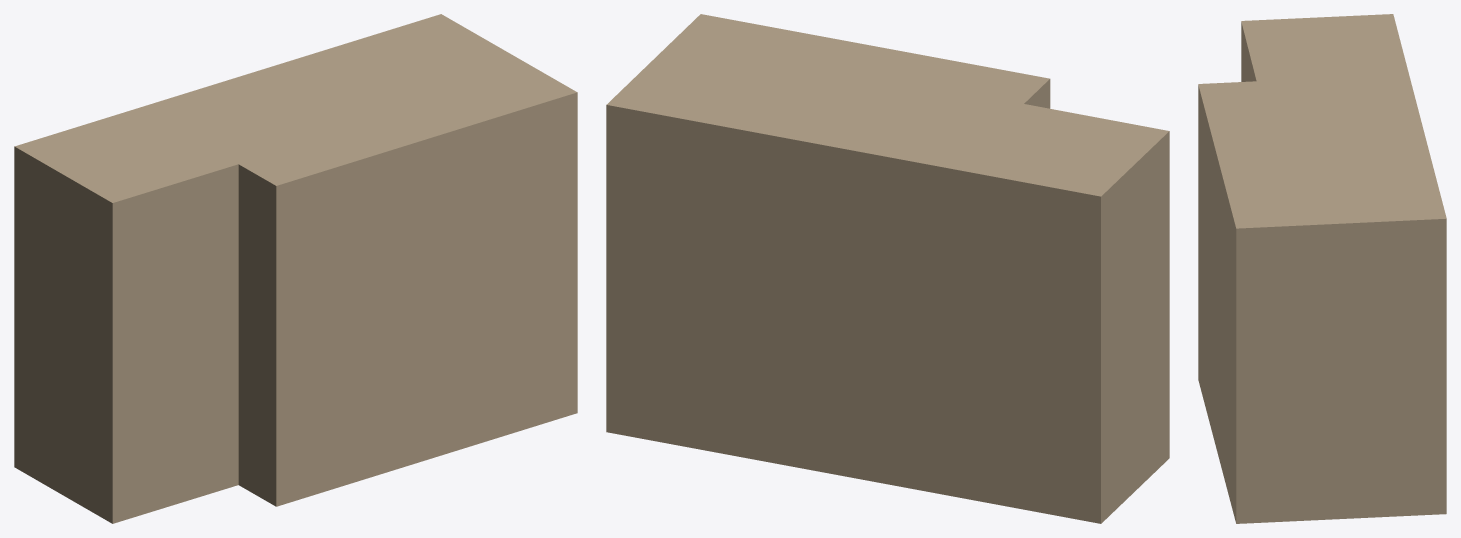
File: bld_101562489.dae
3 views of the same model, side by side, from view 1: azimuth 30°, elevation 25°; view 2: azimuth 150°, elevation 25°; view 3: azimuth 270°, elevation 25° (orthographic). The views are drawn at different scales.
Visible parts, largest first — view 1: bld_101562489; view 2: bld_101562489; view 3: bld_101562489.
Part boxes in pixels (x1,y1,x2,y2): bld_101562489: (14,14,577,523); bld_101562489: (606,14,1169,523); bld_101562489: (1198,14,1446,523).
Bounding box in the file's own units: 12.47 × 6.1 × 8.
